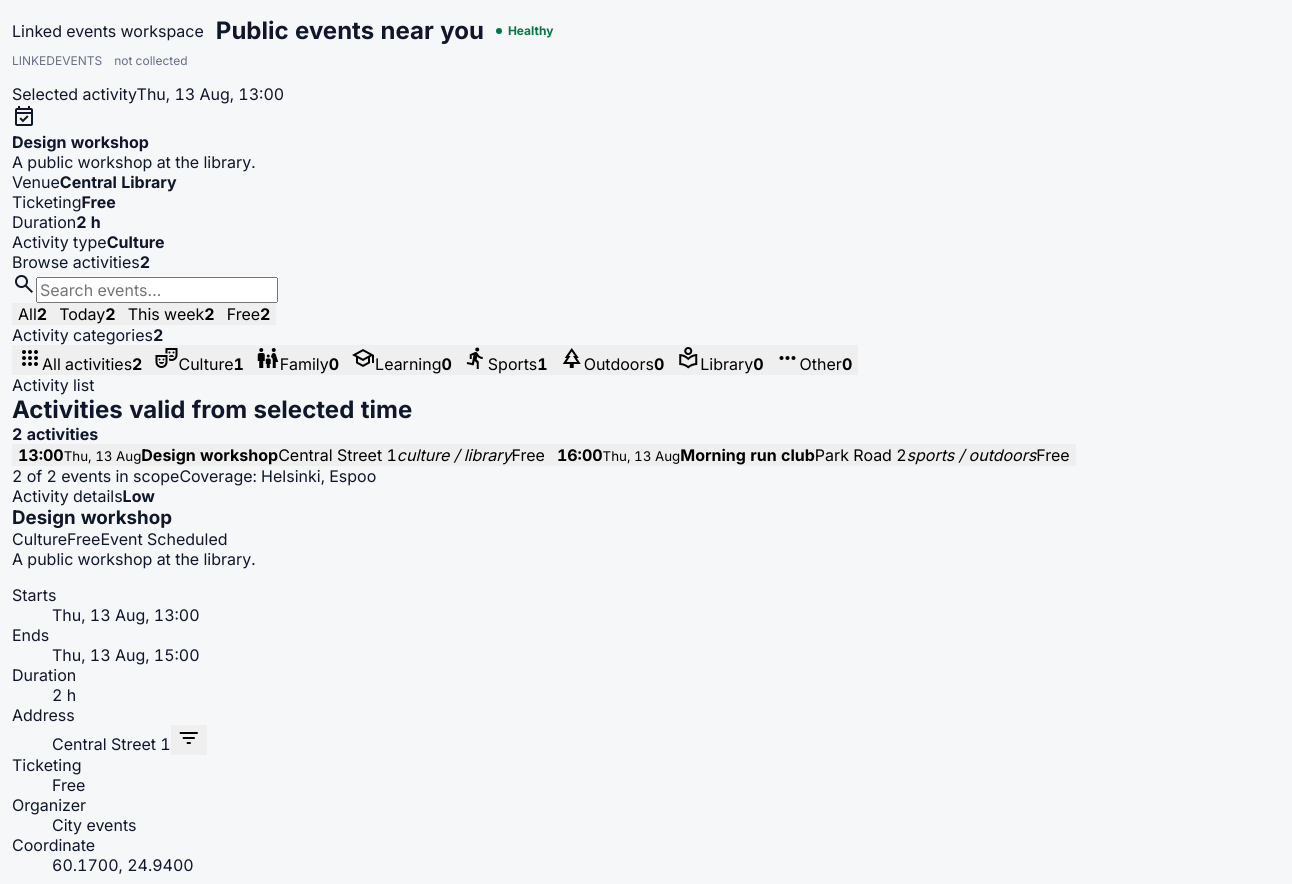
Test: LinkedEventsWorkspace selection semantics › does not keep an out-of-filter event in the inspector when no results remain
Click the button with aria-label "Learning: 0": point(402, 360) [345,345,458,375]
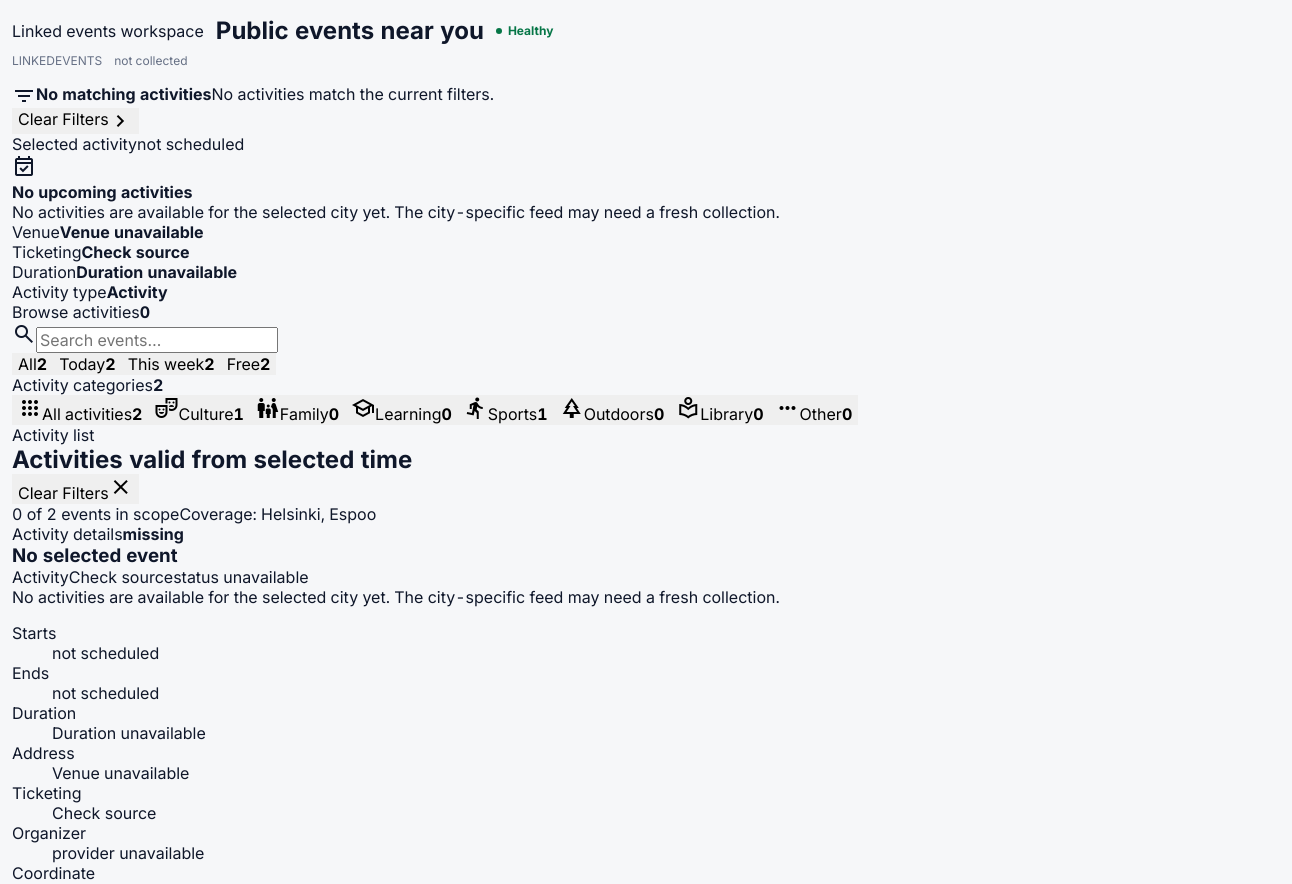
Now the message shows "No activities match the current filters.", box [212,84,494,104]
Now the text "No upcoming activities" is shown, box [12,182,192,202]
Now the heading "No selected event" is shown, box [12,544,178,567]
